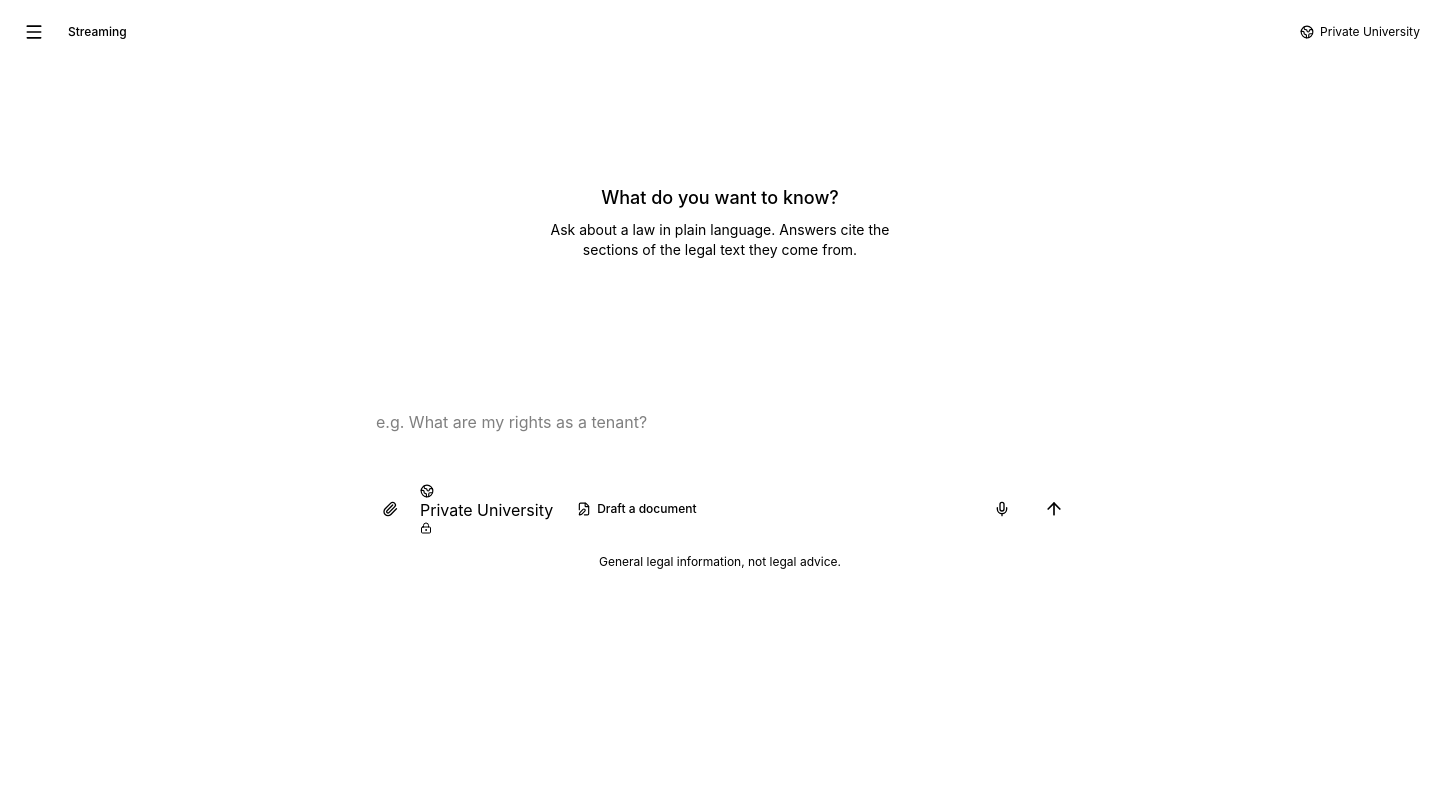
Test: provisional ordinary streaming › enables ordinary Stop on draft_start before text without showing a draft answer
In the text box: (720, 436) x1=364 y1=396 x2=1076 y2=476, type "What are my rights?"
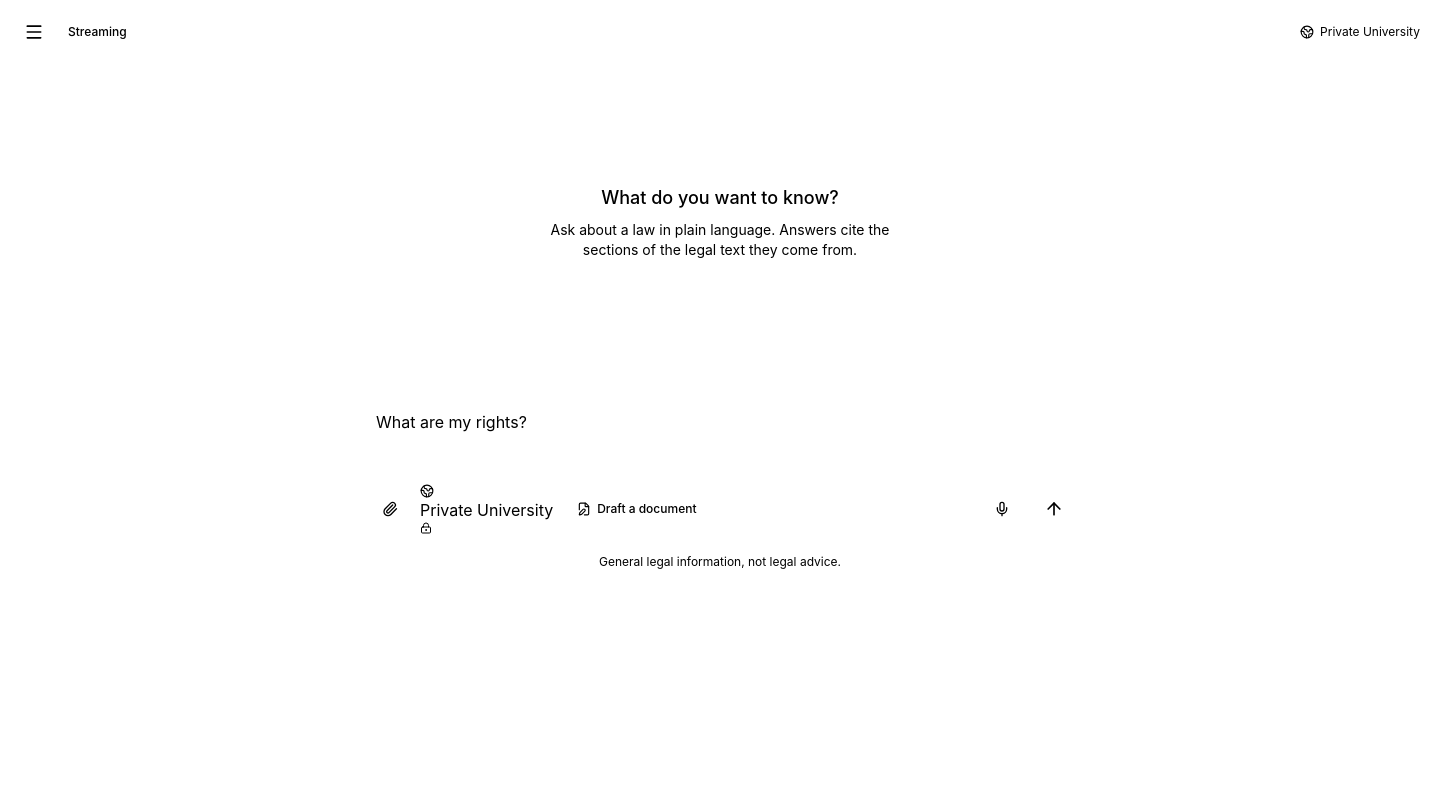
Click the button named "Send question": click(1054, 509) x1=1032 y1=487 x2=1076 y2=531
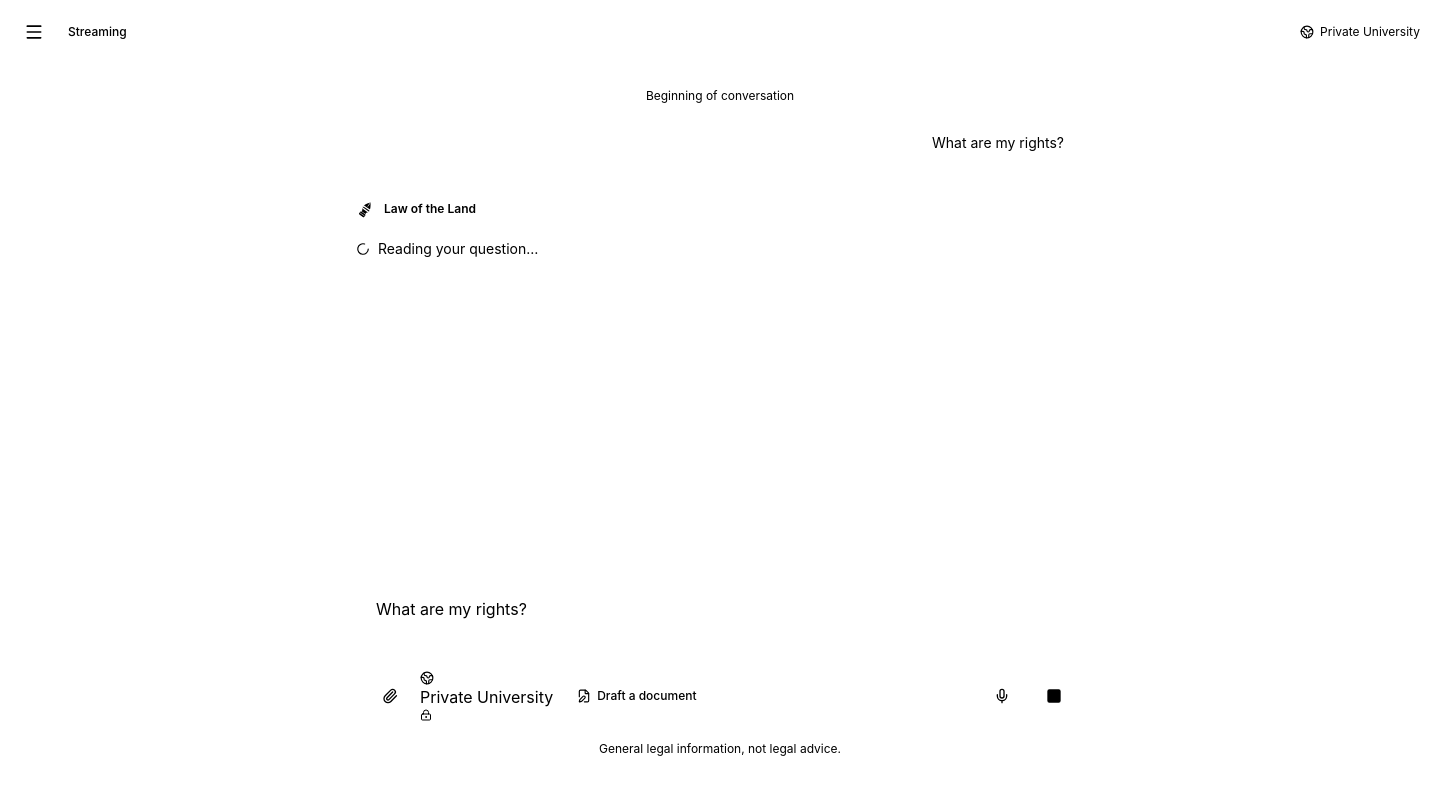
Check: the button "Send question" is not shown
Check: the button named "Stop answer" is shown
Check: the message named "Preparing answer" is shown, box x1=356 y1=240 x2=538 y2=257
Click the button named "Stop answer": click(1054, 696) x1=1032 y1=674 x2=1076 y2=718
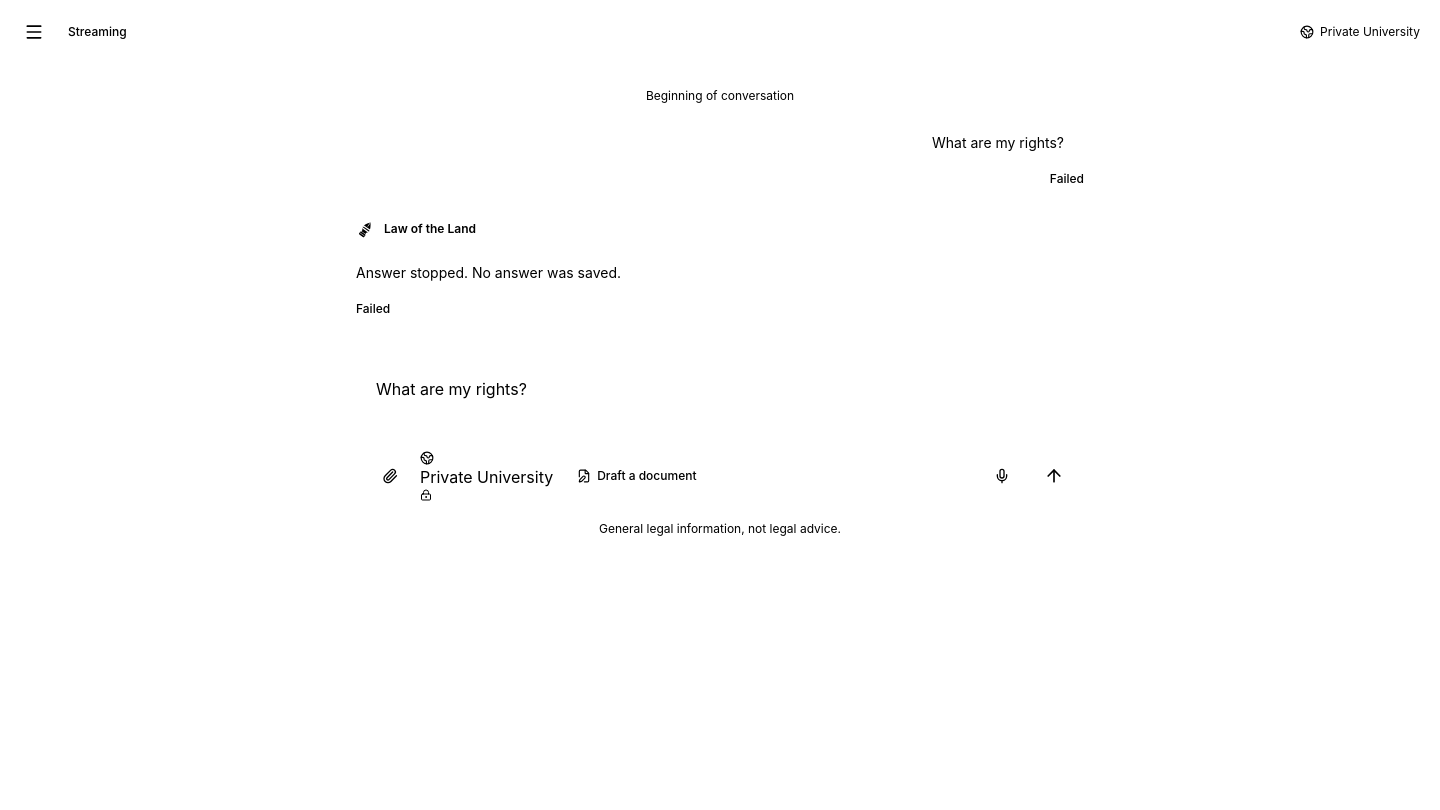
Check: the button named "Send question" is shown, box x1=1032 y1=454 x2=1076 y2=498
Check: the text box is enabled, box x1=364 y1=363 x2=1076 y2=443
Check: the text "Answer stopped. No answer was saved." is shown, box x1=356 y1=264 x2=621 y2=281
